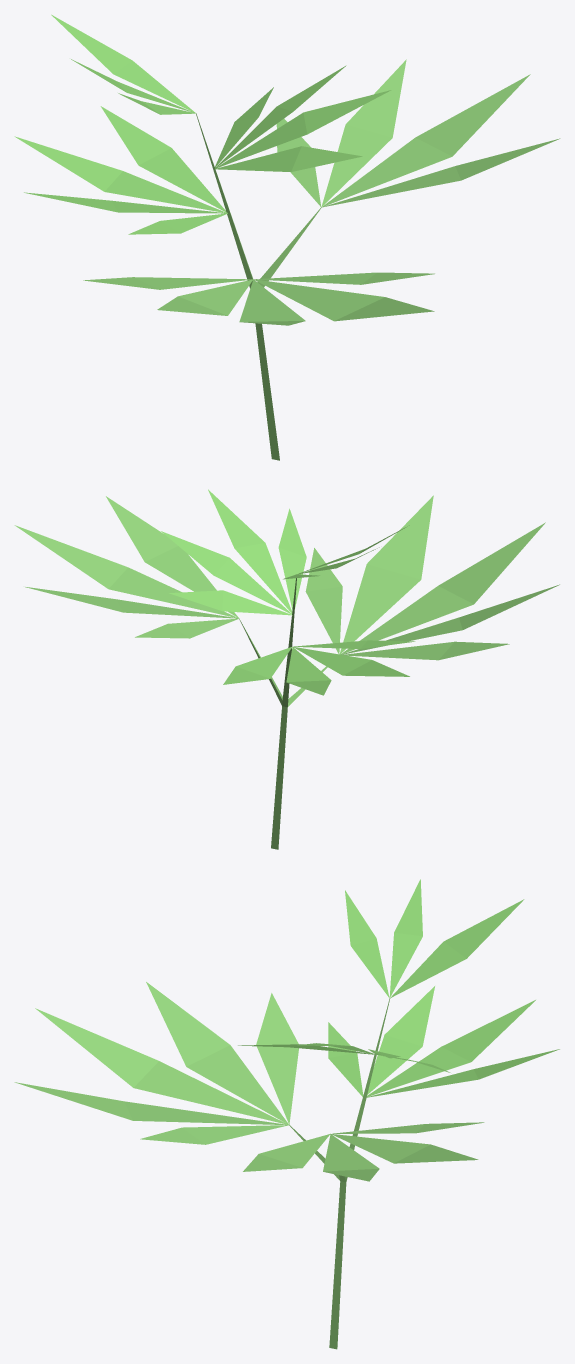
The model's file is Plant_i_TwoS_08.fbx.
The picture shows the model from 3 angles, top to bottom: view 1: azimuth 30°, elevation 25°; view 2: azimuth 150°, elevation 25°; view 3: azimuth 270°, elevation 25°; orthographic projection. The views are drawn at different scales.
Visible parts, largest first — view 1: Plant_i_TwoS_08; view 2: Plant_i_TwoS_08; view 3: Plant_i_TwoS_08.
Part boxes in pixels (bbox=[...]): Plant_i_TwoS_08: bbox=[14, 14, 560, 460]; Plant_i_TwoS_08: bbox=[14, 489, 559, 849]; Plant_i_TwoS_08: bbox=[14, 879, 559, 1349].
Size of the model in its own units: 53.72 by 41.94 by 52.95.
